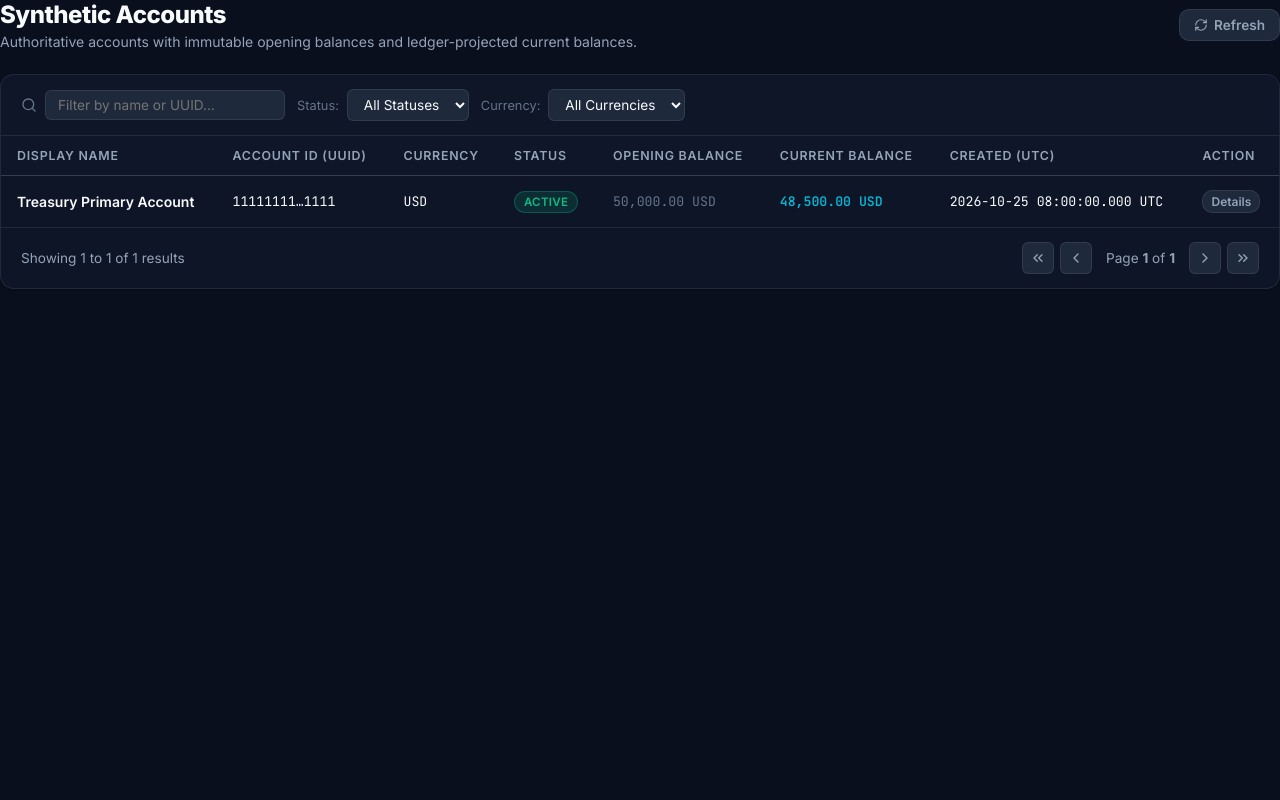
it: AccountsPage › opens account detail view and displays transfers and double-entry ledger history
The width and height of the screenshot is (1280, 800).
Check: the text "Treasury Primary Account" is shown, box [1,176,216,227]
// Click "Inspect account"
Click the button named "inspect account".
click(1231, 202)  # box [1202,190,1260,213]
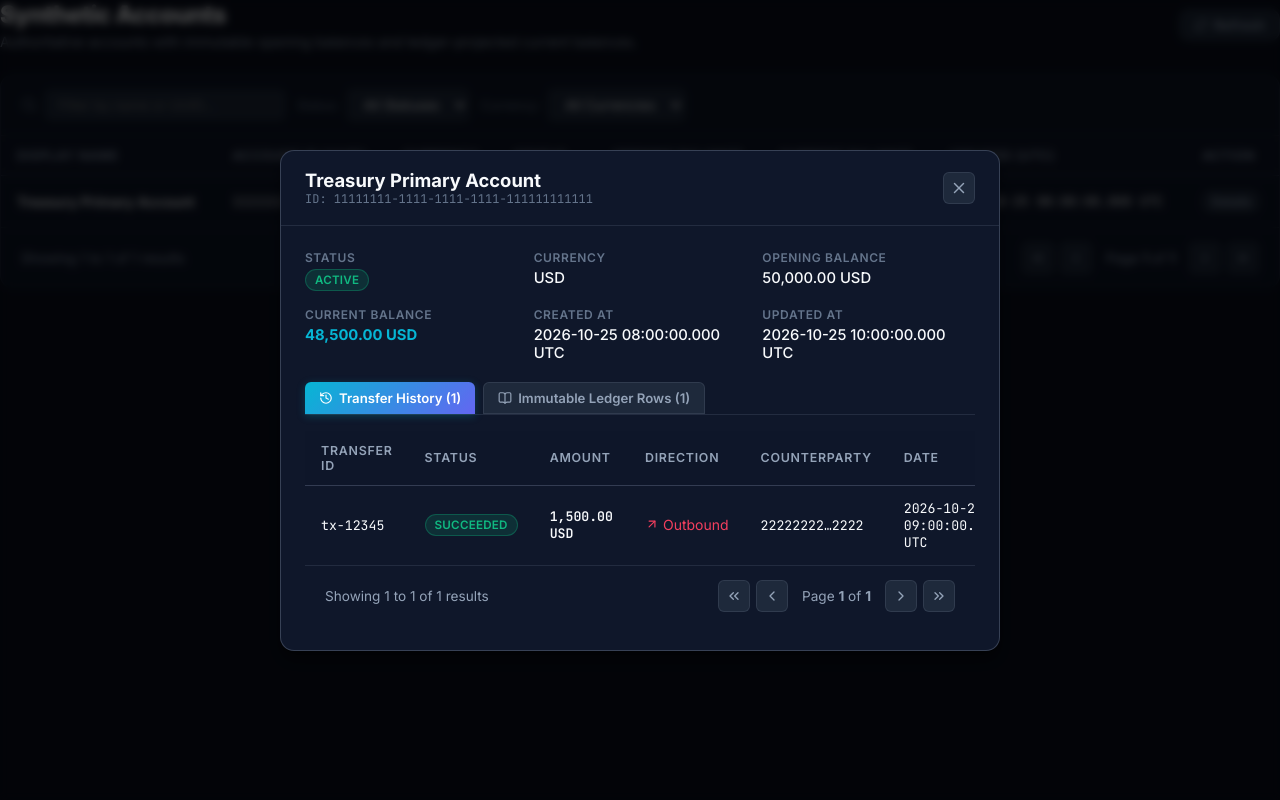
Check: the heading "Treasury Primary Account" is shown, box [305,168,541,190]
Check: the text "1,500.00 USD" is shown, box [534,485,629,564]
// Switch to Ledger tab
Click the button "Immutable Ledger Rows (1)".
click(594, 398)  # box [483,382,705,414]
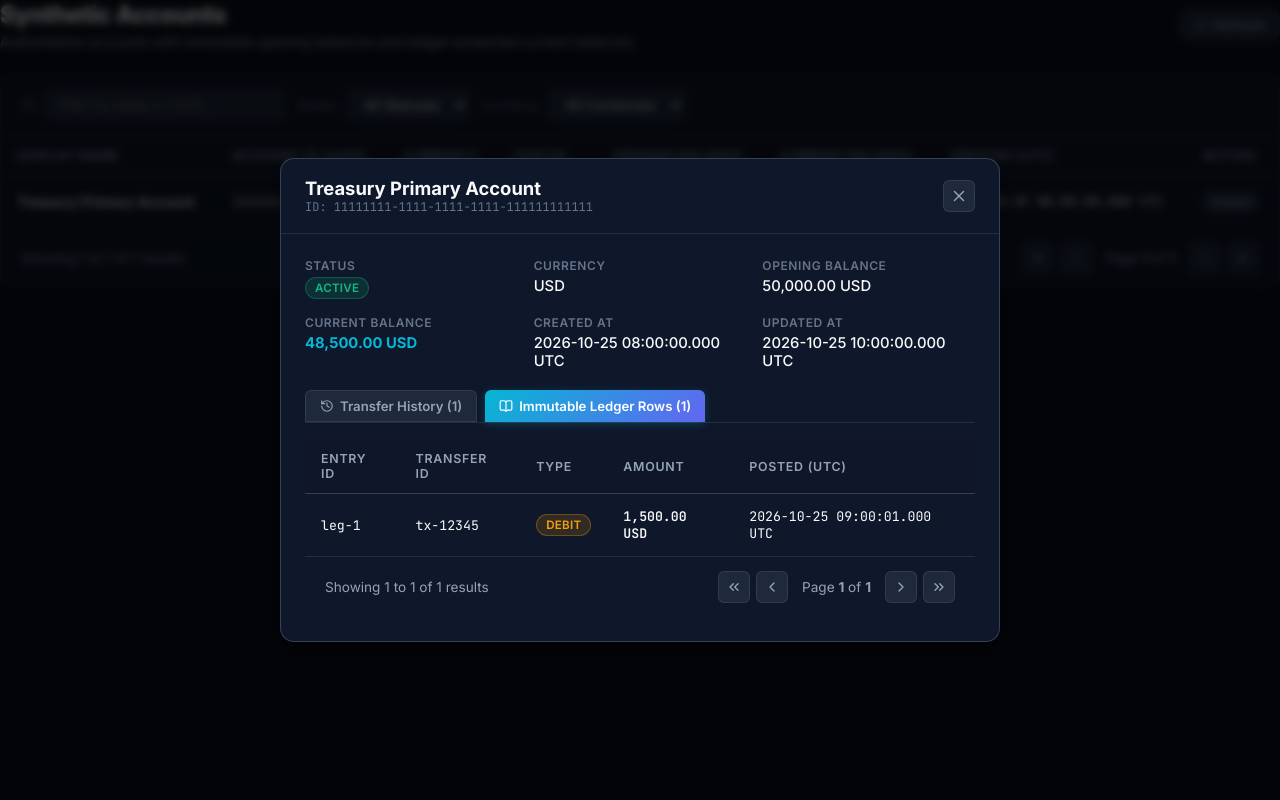
Check: the text "DEBIT" is shown, box [536,514,591,536]
Check: the text "leg-1" is shown, box [305,494,400,556]
